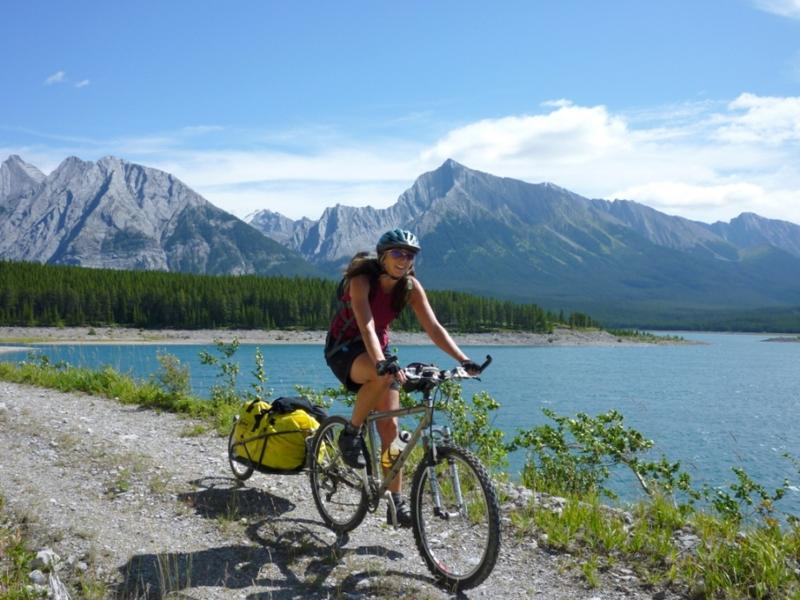person: (324, 226, 486, 535)
